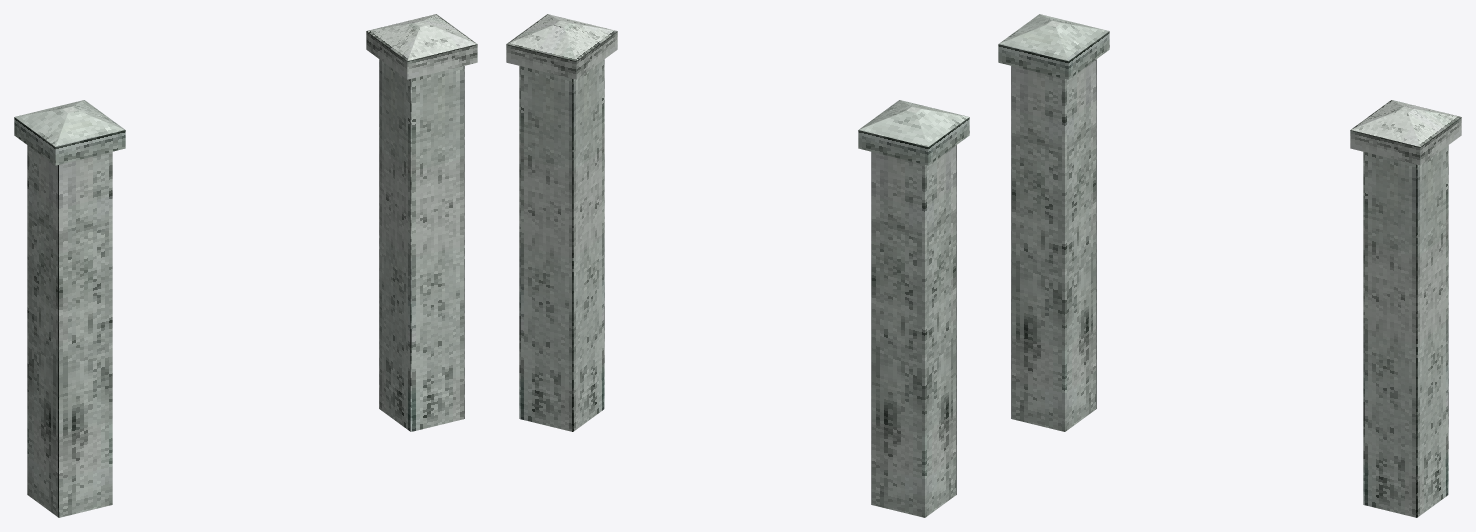
Rendered from white_picket_fence_gate_poles.glb.
3 views of the same model, side by side, from view 1: azimuth 30°, elevation 25°; view 2: azimuth 150°, elevation 25°; view 3: azimuth 330°, elevation 25° (orthographic).
Visible parts, largest first — view 1: white_picket_fence_gate_poles; view 2: white_picket_fence_gate_poles; view 3: white_picket_fence_gate_poles.
Part boxes in pixels (left/top/right/bottom): white_picket_fence_gate_poles: left=14, top=14, right=477, bottom=517; white_picket_fence_gate_poles: left=506, top=14, right=969, bottom=517; white_picket_fence_gate_poles: left=998, top=14, right=1461, bottom=517.
Size of the model in its own units: 1.55 by 1.37 by 0.2613.
1 material, 1 textured.
